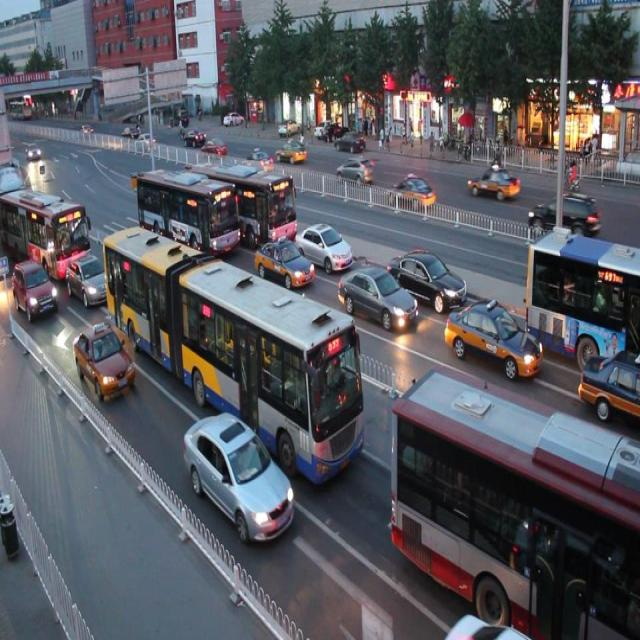car: (182, 408, 293, 541), (446, 294, 544, 382), (337, 258, 416, 331), (390, 243, 468, 309), (74, 322, 135, 399), (578, 347, 640, 418), (253, 230, 314, 289), (294, 214, 352, 273), (443, 607, 533, 640), (12, 259, 59, 319), (66, 254, 115, 309)
van: (102, 218, 366, 482), (390, 366, 640, 640), (524, 225, 640, 360), (136, 160, 240, 262), (191, 153, 298, 248), (1, 182, 90, 272)
